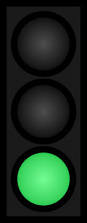green: (3, 2, 83, 219), (9, 8, 76, 212)
